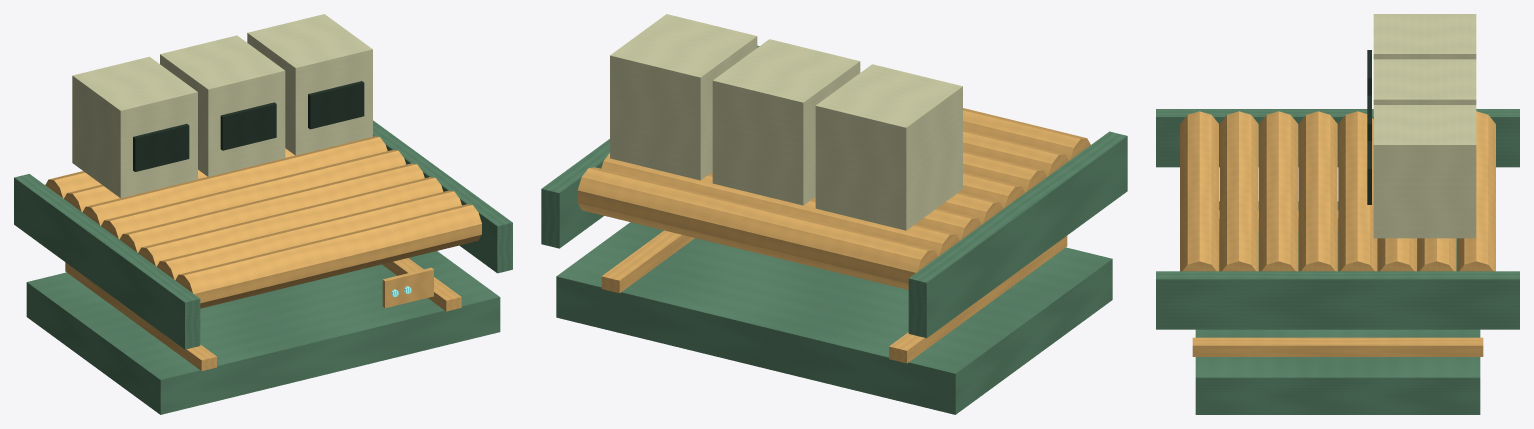
The model's file is atlas100-s004-a01.glb.
3 views of the same model, side by side, from view 1: azimuth 30°, elevation 25°; view 2: azimuth 150°, elevation 25°; view 3: azimuth 270°, elevation 25° (orthographic). The views are drawn at different scales.
Visible parts, largest first — view 1: atlas100-s004-a01:part-000, atlas100-s004-a01:part-013, atlas100-s004-a01:part-010, atlas100-s004-a01:part-011, atlas100-s004-a01:part-015, atlas100-s004-a01:part-017, atlas100-s004-a01:part-008, atlas100-s004-a01:part-007, atlas100-s004-a01:part-006, atlas100-s004-a01:part-009, atlas100-s004-a01:part-005, atlas100-s004-a01:part-012 (+8 smaller); view 2: atlas100-s004-a01:part-000, atlas100-s004-a01:part-013, atlas100-s004-a01:part-015, atlas100-s004-a01:part-017, atlas100-s004-a01:part-003, atlas100-s004-a01:part-011, atlas100-s004-a01:part-004, atlas100-s004-a01:part-012, atlas100-s004-a01:part-010, atlas100-s004-a01:part-001, atlas100-s004-a01:part-002, atlas100-s004-a01:part-009 (+4 smaller); view 3: atlas100-s004-a01:part-012, atlas100-s004-a01:part-000, atlas100-s004-a01:part-017, atlas100-s004-a01:part-007, atlas100-s004-a01:part-008, atlas100-s004-a01:part-009, atlas100-s004-a01:part-010, atlas100-s004-a01:part-002, atlas100-s004-a01:part-006, atlas100-s004-a01:part-015, atlas100-s004-a01:part-013, atlas100-s004-a01:part-011 (+3 smaller).
Boxes of the visible parts, left/top/right/bottom form: atlas100-s004-a01:part-000: left=26, top=251, right=500, bottom=414; atlas100-s004-a01:part-013: left=72, top=56, right=197, bottom=198; atlas100-s004-a01:part-010: left=175, top=204, right=481, bottom=308; atlas100-s004-a01:part-011: left=14, top=174, right=200, bottom=349; atlas100-s004-a01:part-015: left=160, top=35, right=285, bottom=176; atlas100-s004-a01:part-017: left=247, top=14, right=372, bottom=155; atlas100-s004-a01:part-008: left=138, top=177, right=443, bottom=266; atlas100-s004-a01:part-007: left=119, top=163, right=424, bottom=252; atlas100-s004-a01:part-006: left=101, top=150, right=405, bottom=239; atlas100-s004-a01:part-009: left=156, top=190, right=461, bottom=279; atlas100-s004-a01:part-005: left=82, top=136, right=387, bottom=225; atlas100-s004-a01:part-012: left=373, top=120, right=512, bottom=273; atlas100-s004-a01:part-000: left=556, top=222, right=1112, bottom=414; atlas100-s004-a01:part-013: left=815, top=64, right=962, bottom=230; atlas100-s004-a01:part-015: left=712, top=39, right=860, bottom=205; atlas100-s004-a01:part-017: left=610, top=14, right=757, bottom=180; atlas100-s004-a01:part-003: left=577, top=167, right=937, bottom=289; atlas100-s004-a01:part-011: left=908, top=131, right=1127, bottom=338; atlas100-s004-a01:part-004: left=601, top=153, right=959, bottom=256; atlas100-s004-a01:part-012: left=541, top=45, right=759, bottom=248; atlas100-s004-a01:part-010: left=963, top=108, right=1090, bottom=160; atlas100-s004-a01:part-001: left=889, top=236, right=1067, bottom=363; atlas100-s004-a01:part-002: left=601, top=230, right=694, bottom=293; atlas100-s004-a01:part-009: left=963, top=129, right=1068, bottom=176; atlas100-s004-a01:part-012: left=1156, top=271, right=1519, bottom=329; atlas100-s004-a01:part-000: left=1195, top=201, right=1480, bottom=414; atlas100-s004-a01:part-017: left=1373, top=105, right=1476, bottom=238; atlas100-s004-a01:part-007: left=1298, top=111, right=1337, bottom=271; atlas100-s004-a01:part-008: left=1259, top=111, right=1298, bottom=271; atlas100-s004-a01:part-009: left=1219, top=111, right=1258, bottom=271; atlas100-s004-a01:part-010: left=1180, top=111, right=1218, bottom=271; atlas100-s004-a01:part-002: left=1192, top=337, right=1483, bottom=356; atlas100-s004-a01:part-006: left=1338, top=111, right=1377, bottom=271; atlas100-s004-a01:part-015: left=1373, top=59, right=1476, bottom=104; atlas100-s004-a01:part-013: left=1373, top=14, right=1476, bottom=59; atlas100-s004-a01:part-011: left=1156, top=109, right=1519, bottom=167.
Bounding box in the file's own units: 2.64 × 1.73 × 2.3.
Materials: 5 (5 with a texture image).
